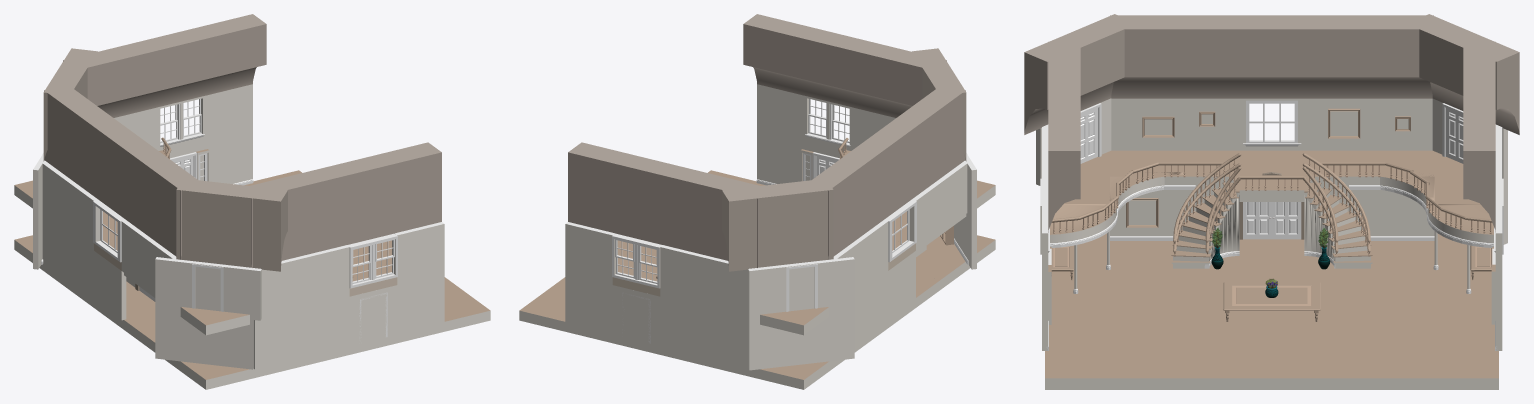
File: Room1-Foyer-merged-nowwithdoorknobandsymmetry.glb
3 renders of one model, left to right at view 1: azimuth 30°, elevation 25°; view 2: azimuth 150°, elevation 25°; view 3: azimuth 270°, elevation 25°, orthographic. The views are drawn at different scales.
Parts seen in each view (by area): view 1: object1.048; view 2: object1.048; view 3: object1.048.
Boxes of the visible parts, bbox=[...] form: object1.048: bbox=[14, 14, 490, 389]; object1.048: bbox=[519, 14, 995, 389]; object1.048: bbox=[1024, 14, 1519, 389].
Bounding box in the file's own units: 12.68 × 7.2 × 15.28.
Materials: 61 (5 with a texture image).
